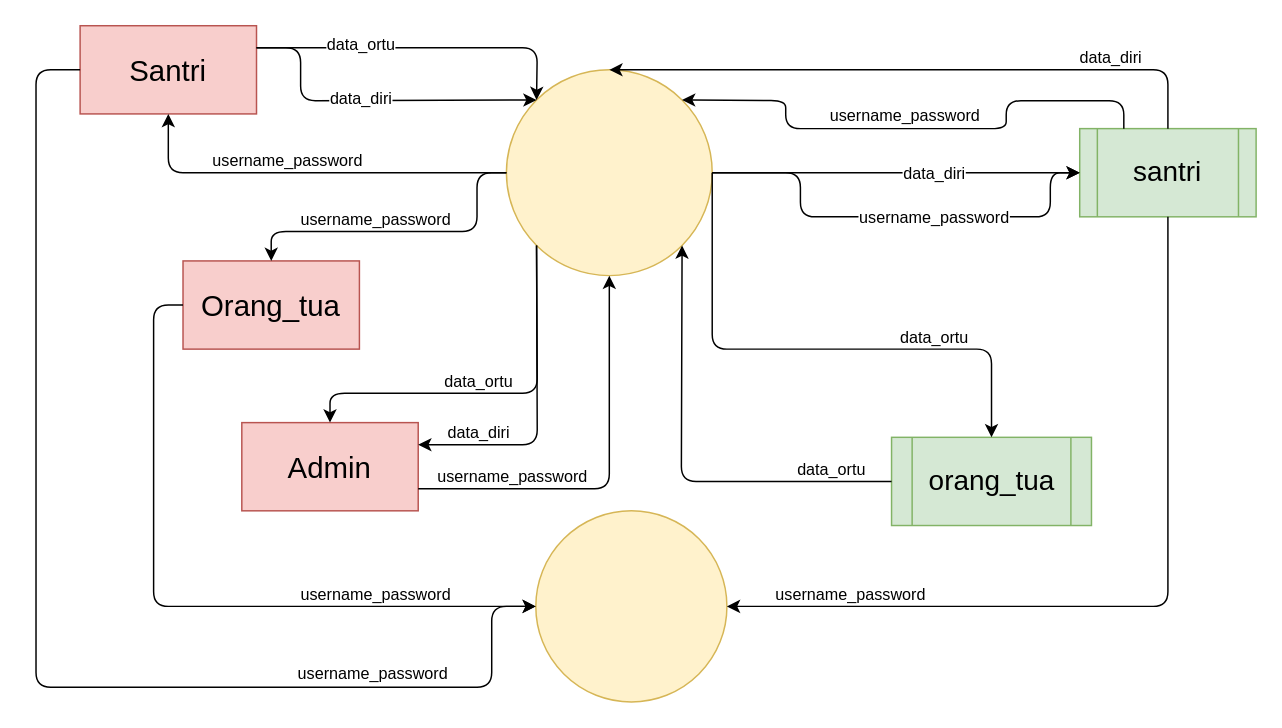
Image size: 1282x728. Some labels were removed from this diagram. The shapes that lost their labels are listed below. From the top down, each one's box as (x1, y1, x2, y2) in pixels, then its label:
(505, 68, 712, 276): 1.0 Pendataan Data Santri
(534, 509, 727, 702): 2.0 Login
